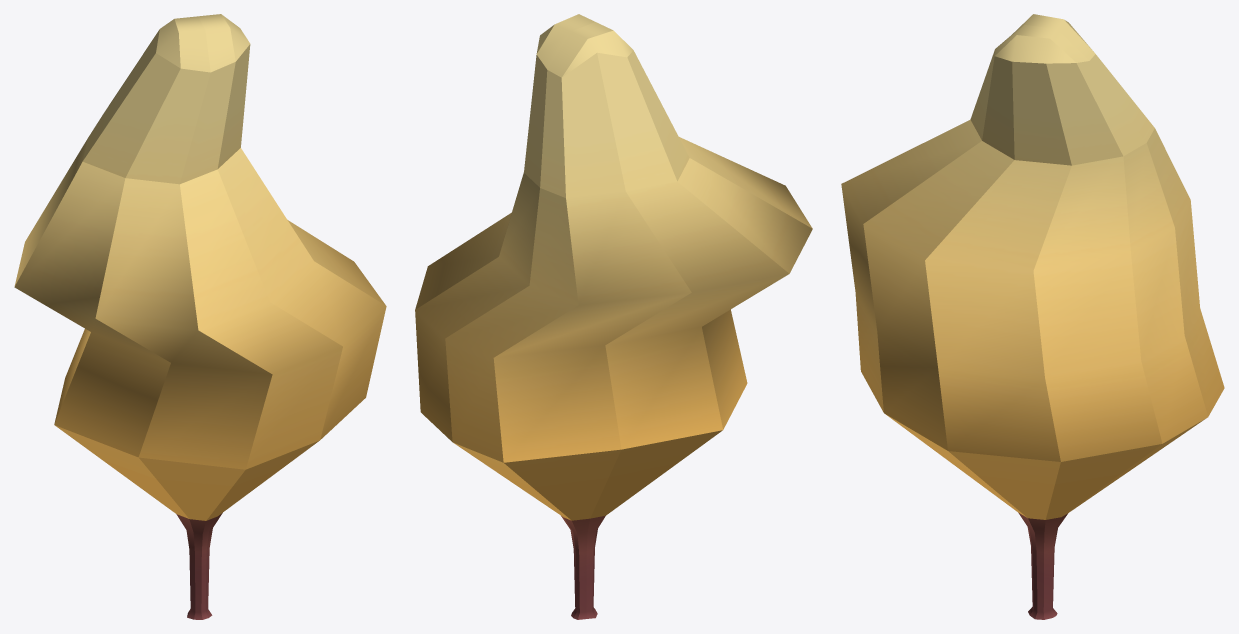
The model's file is Spruce_yellow.fbx.
3 views of the same model, side by side, from view 1: azimuth 30°, elevation 25°; view 2: azimuth 150°, elevation 25°; view 3: azimuth 270°, elevation 25° (orthographic).
Visible parts, largest first — view 1: Spruce_yellow1; view 2: Spruce_yellow1; view 3: Spruce_yellow1.
Part boxes in pixels (x1,y1,x2,y2): Spruce_yellow1: (14,14,386,619); Spruce_yellow1: (415,14,812,619); Spruce_yellow1: (841,14,1224,619).
Size of the model in its own units: 20.58 by 33.05 by 19.5.
